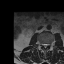CCS_normal: (44, 41, 46, 50)
LFS_normal: (48, 41, 50, 47)
LLS_normal: (46, 41, 48, 48)
RFS_normal: (40, 40, 42, 47)
RLS_normal: (42, 41, 44, 47)
